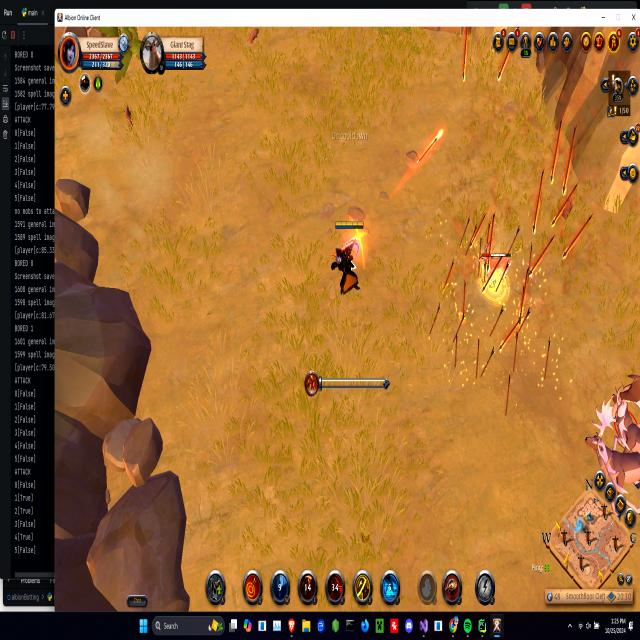mob: (582, 400, 640, 497)
ore: (478, 246, 513, 292)
red: (329, 218, 367, 302)
